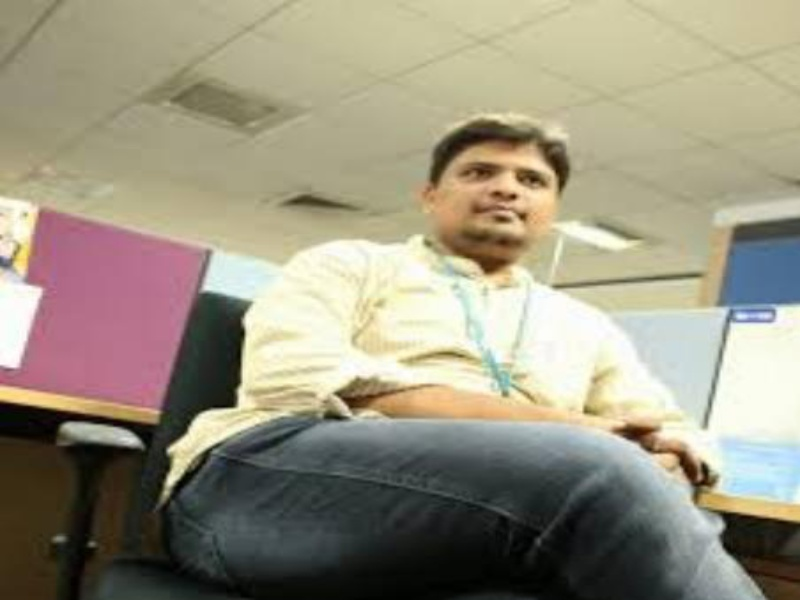TsisyArotava: (421, 101, 581, 274)
